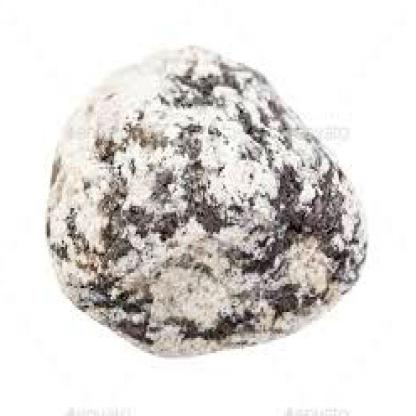Sedimentary_Chalk: (37, 39, 376, 360)
